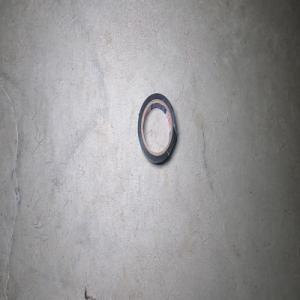Tape: (137, 93, 177, 164)
